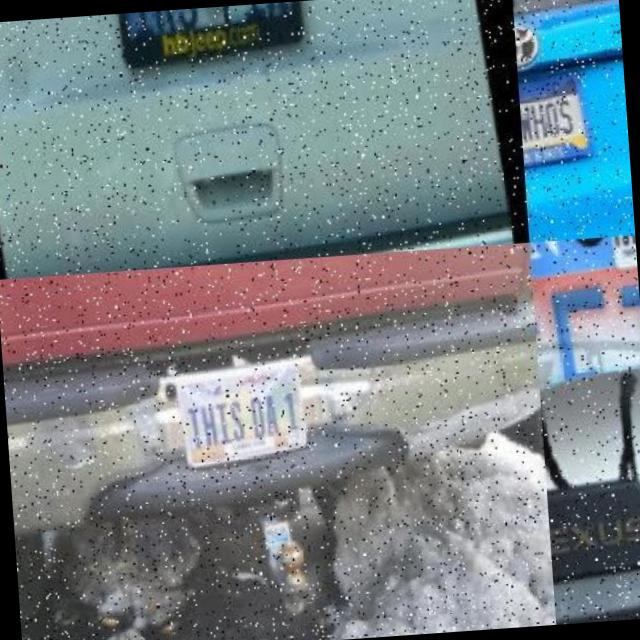LicensePlate: (529, 234, 640, 578), (98, 1, 301, 82), (169, 372, 301, 476), (517, 76, 586, 175)
